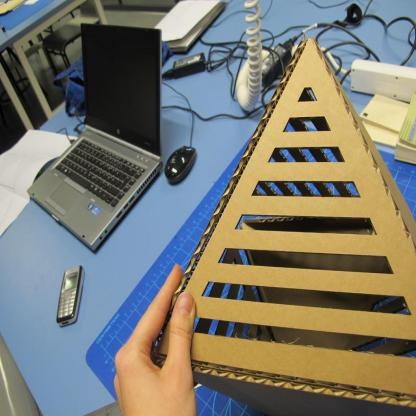board: (27, 21, 160, 253), (164, 3, 226, 53)
